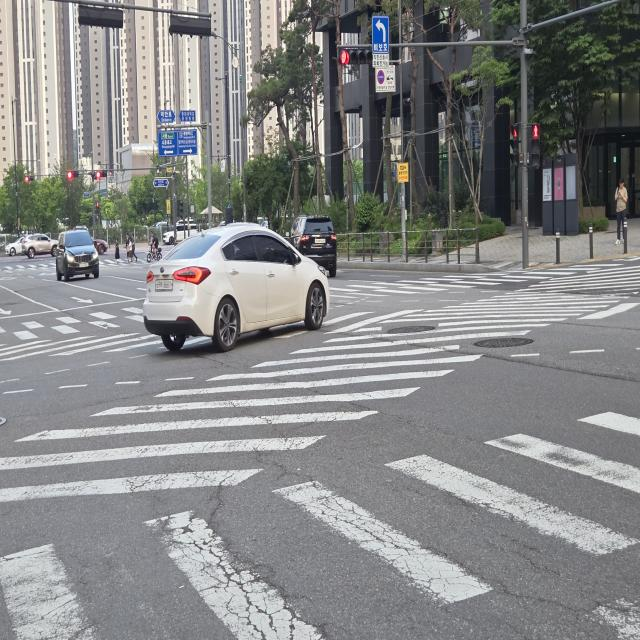car: (136, 168, 339, 400), (42, 205, 111, 292)
